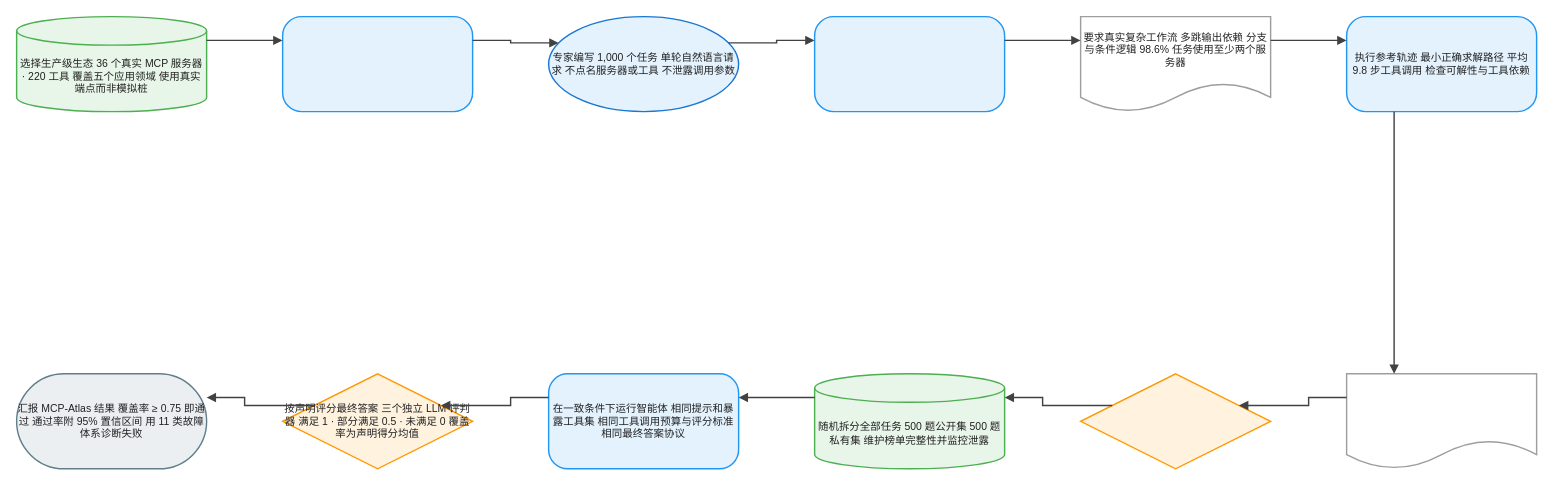
This 1554x486 diagram has some shape labels left out. The box of each missing label's shape, as (x1, y1, x2, y2) in pixels:
保证运行可复现 容器化并固定版本 沙盒文件系统 · 网络出口白名单 每次评测后重启服务器: (281, 15, 473, 112)
执行五层质量检查 专家执行 · 领域复审 泄露复审 · LLM 自动核验 随机样本人工审计: (1079, 373, 1271, 469)
编写声明评分标准 基于工具输出的原子事实 平均 4.7 条 · 范围 1–23 条 允许其他有效调用轨迹: (1345, 373, 1537, 469)
配置每个工具环境 暴露 6–37 个工具 · 均值 15.2 仅 2–8 个相关 · 均值 4.1 加入语义相近的可信干扰项: (813, 15, 1005, 112)
